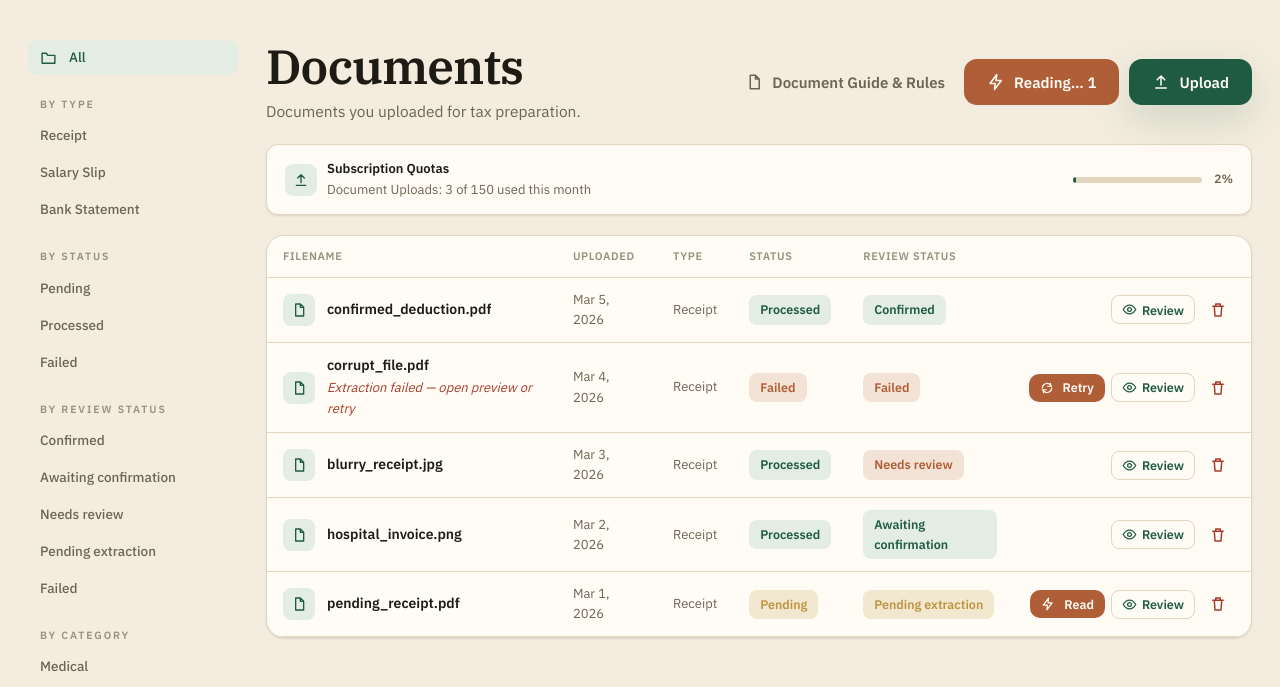
Test case: Files page review status display and filtering (Card G-FILES-REVIEW-STATUS01) › filters documents by needs_review when clicked
Expected: the text "pending_receipt.pdf" is shown, [327, 593, 460, 615]
# Find filter button for Needs Review
Click the button "Needs review": (133, 514) [28, 497, 238, 532]
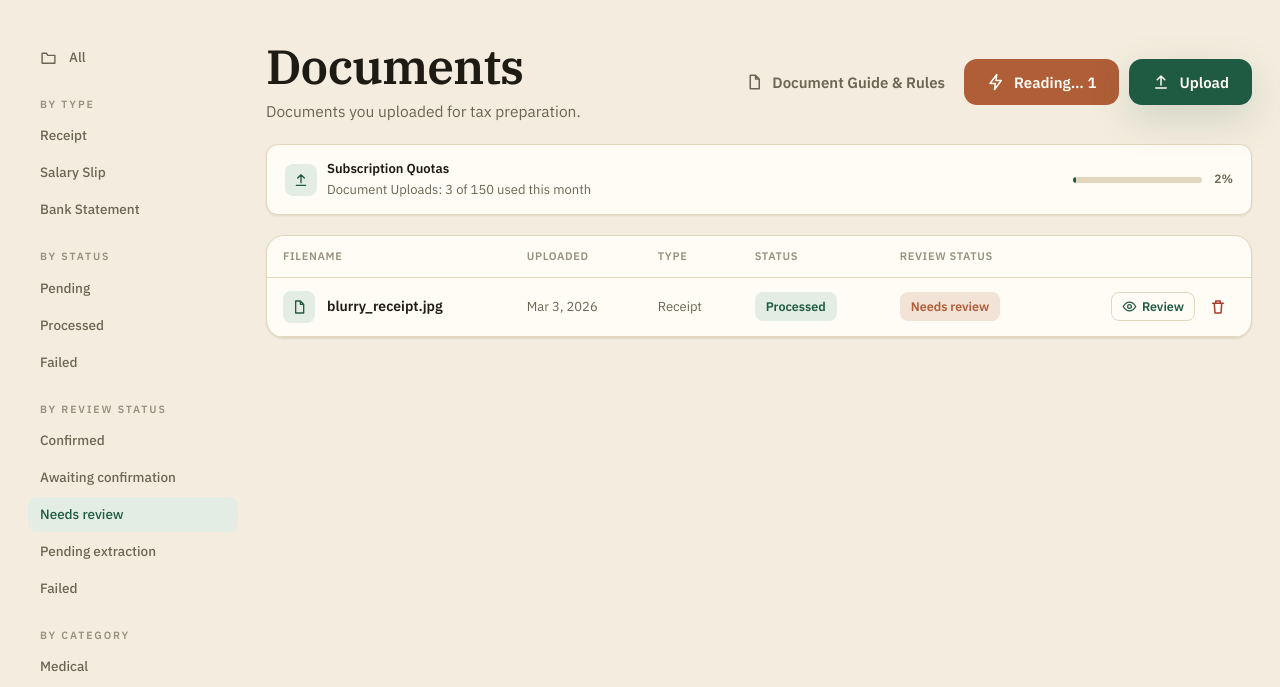
Result: the text "pending_receipt.pdf" is gone
Result: the text "hospital_invoice.png" is gone
Result: the text "corrupt_file.pdf" is gone
